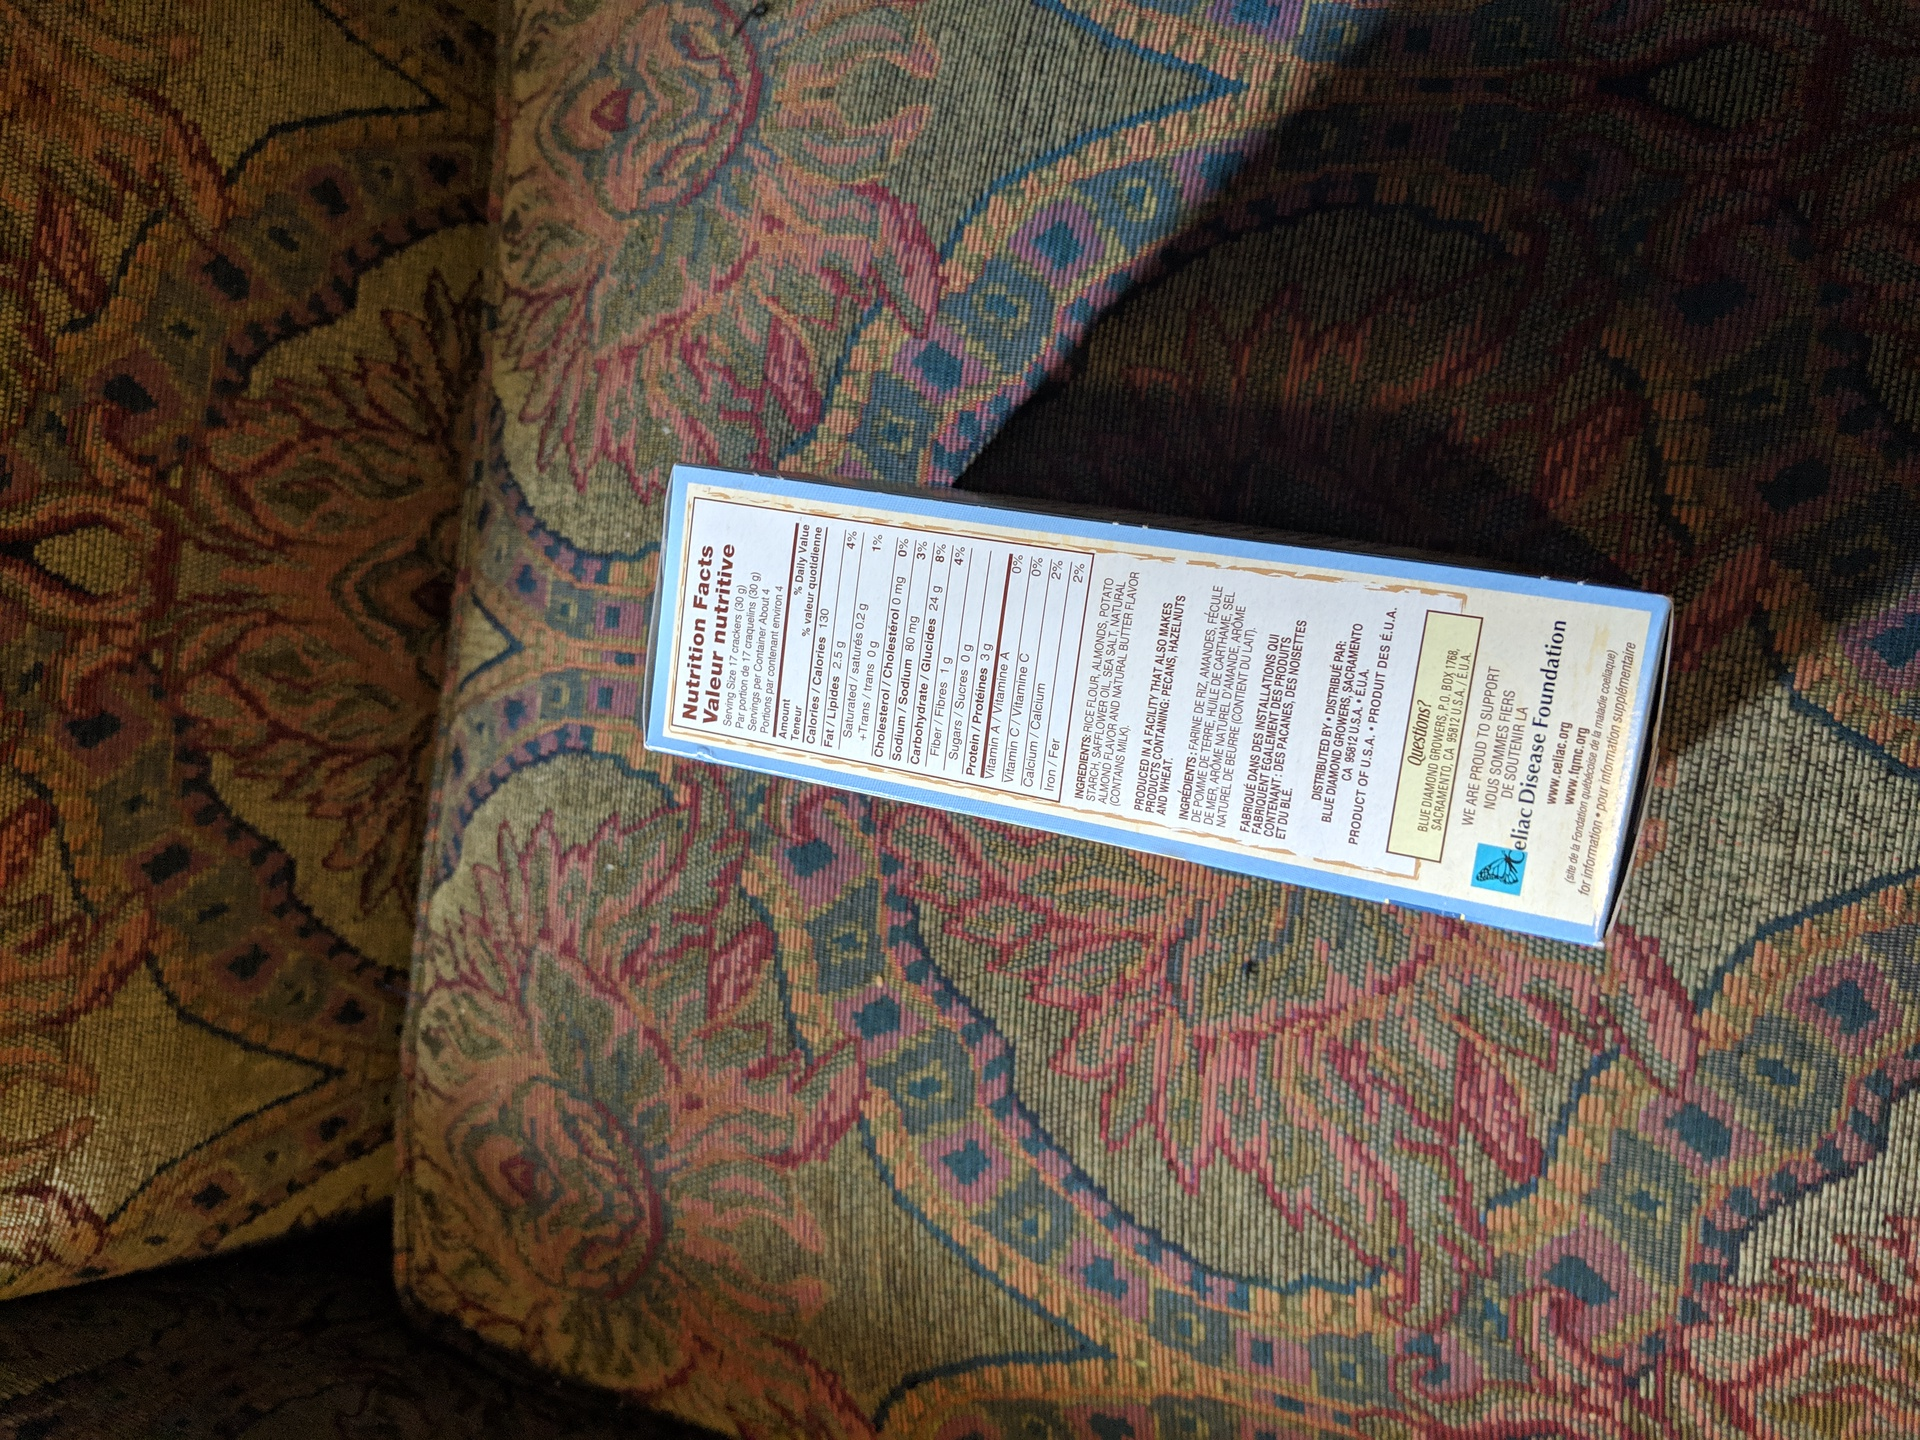blue_diamond_nut_thins_almond_seasalt: (658, 463, 1645, 909)
